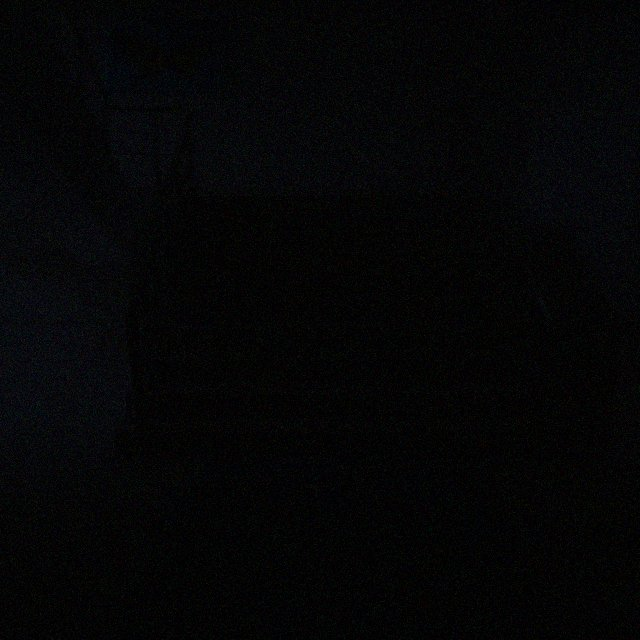stair: (117, 195, 566, 454)
